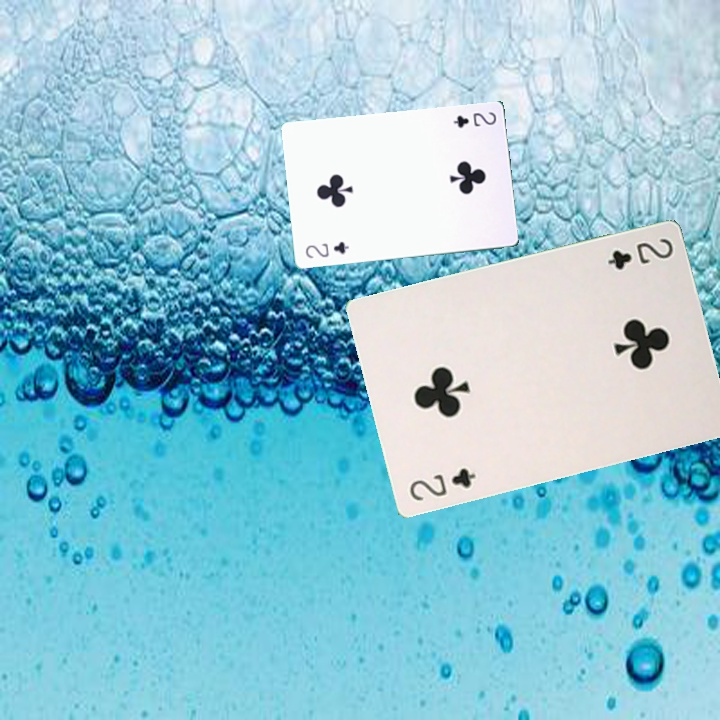2c: (405, 464, 479, 504), (603, 234, 676, 273), (301, 237, 351, 261), (449, 108, 499, 130)
